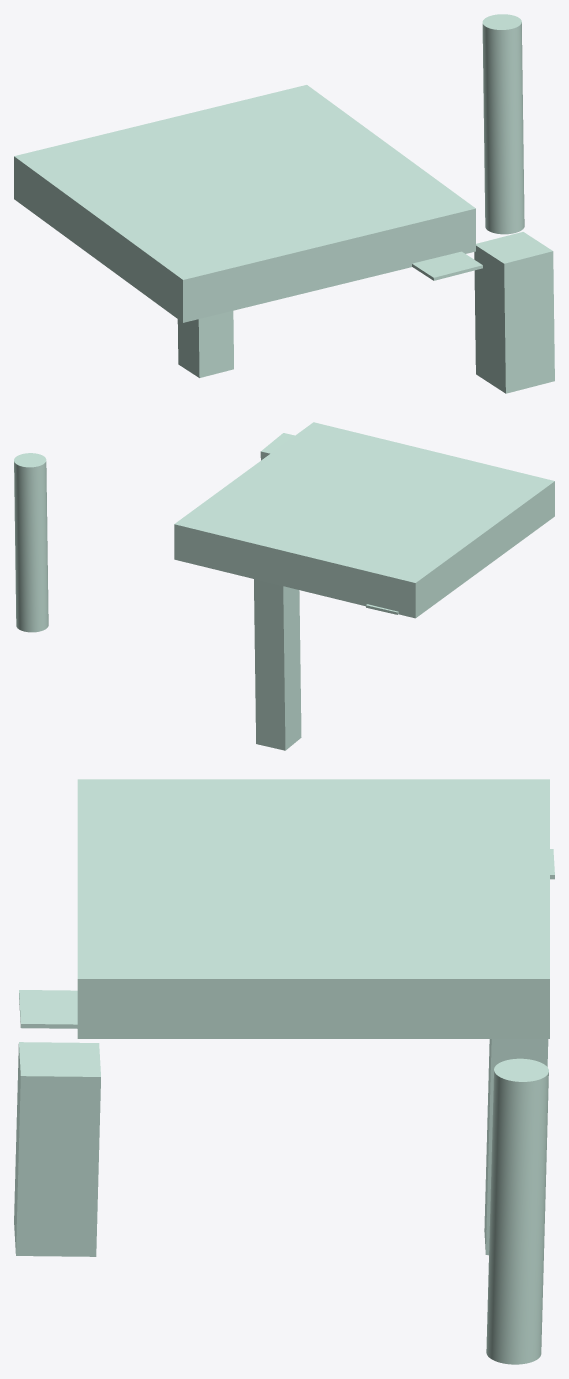
The picture shows the model from 3 angles, top to bottom: view 1: azimuth 30°, elevation 25°; view 2: azimuth 150°, elevation 25°; view 3: azimuth 270°, elevation 25°; orthographic projection. The views are drawn at different scales.
Visible parts, largest first — view 1: Renderer Node; view 2: Renderer Node; view 3: Renderer Node.
Boxes of the visible parts, bbox=[...] form: Renderer Node: bbox=[14, 14, 554, 393]; Renderer Node: bbox=[14, 422, 554, 750]; Renderer Node: bbox=[14, 779, 554, 1364].
Size of the model in its own units: 1.32 by 0.6896 by 0.8942.
